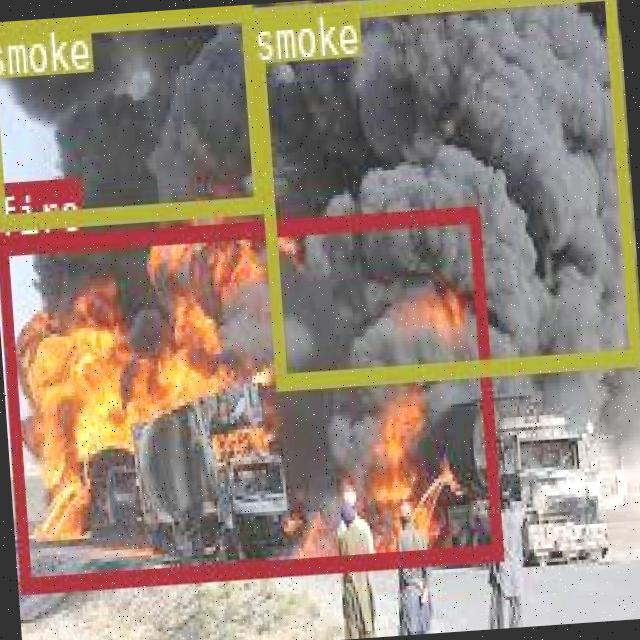fire: (0, 204, 499, 590)
smoke: (247, 0, 638, 387), (0, 4, 262, 228)
